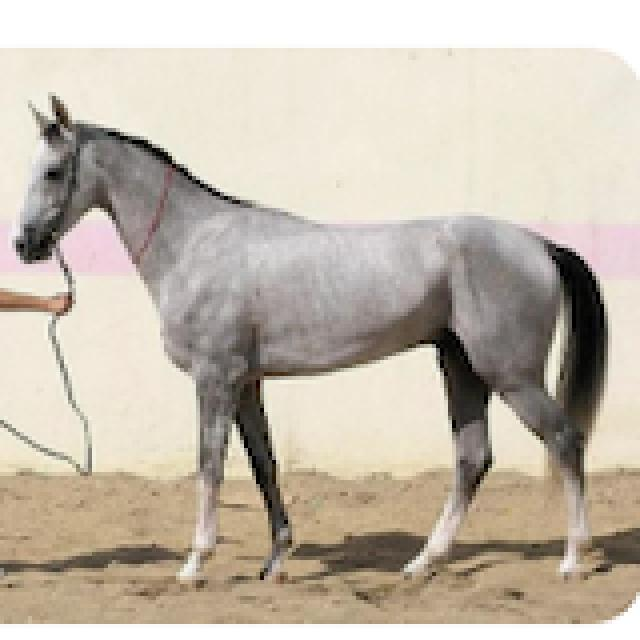Horse: (4, 88, 620, 592)
